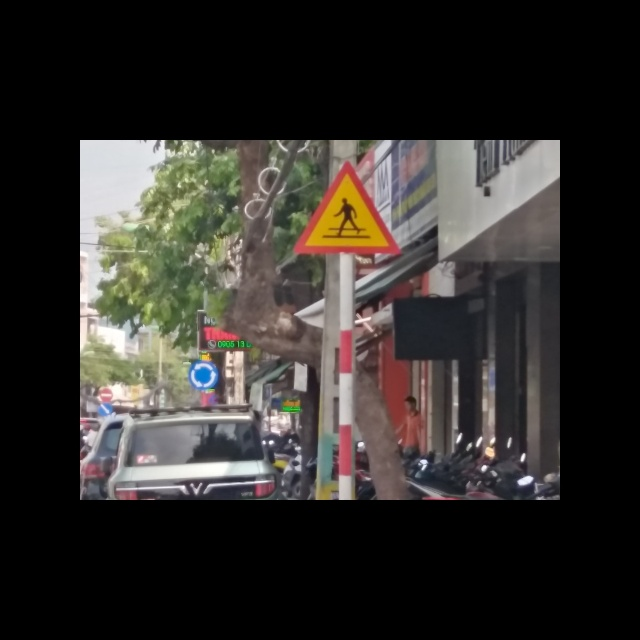Nơi giao nhau chạy theo vòng xuyến: (186, 356, 219, 388)
Đường người đi bộ sang đường: (290, 160, 404, 256)
